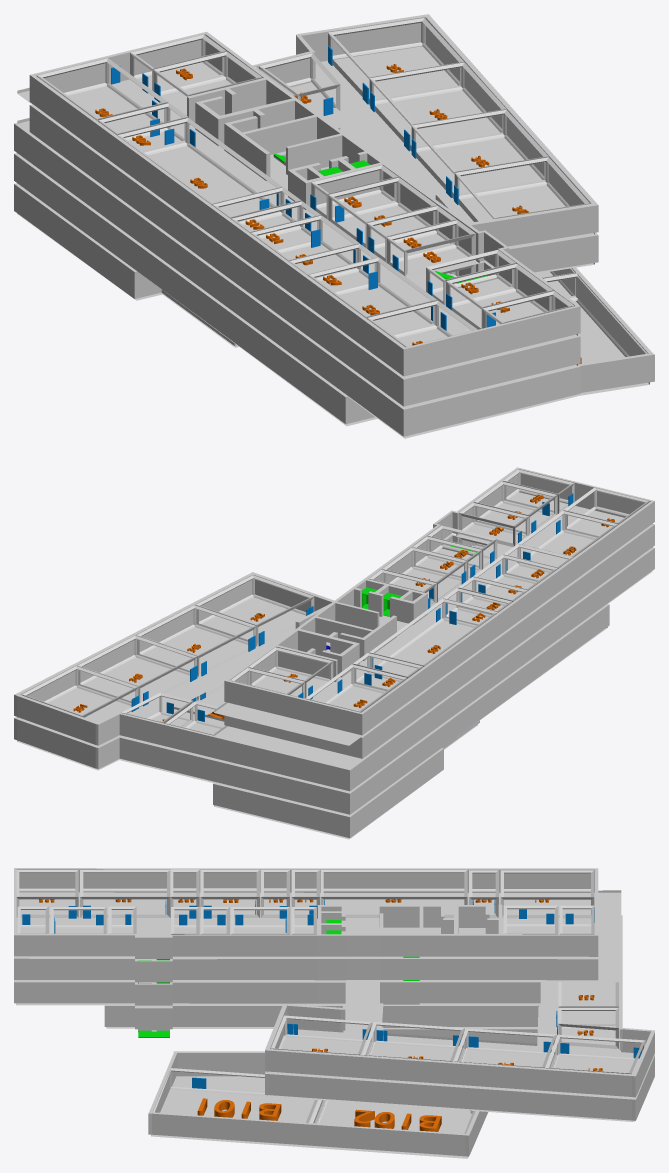
3 renders of one model, top to bottom at view 1: azimuth 30°, elevation 25°; view 2: azimuth 150°, elevation 25°; view 3: azimuth 270°, elevation 25°, orthographic. The views are drawn at different scales.
Parts seen in each view (by area): view 1: Wall.005, Wall.003, Floor.005, Floor.003, Wall.004, Wall.002, Wall.001, Wall, B102.034, B102.035, B102.036, B102.053 (+23 smaller); view 2: Wall.005, Wall.003, Floor.005, Wall.002, Floor.003, Wall.004, Wall.001, Floor.004, B102.034, B102.037, B102.035, Floor.002 (+19 smaller); view 3: Wall.005, Wall.003, Floor.005, Wall.002, Floor.003, Wall.004, Wall, Floor, B102.053, Floor.004, B102.056, B102.062 (+22 smaller).
Part boxes in pixels (x1,y1,x2,y2): Wall.005: (29,31,580,376); Wall.003: (14,14,598,436); Floor.005: (17,62,577,378); Floor.003: (17,46,594,438); Wall.004: (29,104,580,406); Wall.002: (14,153,598,424); Wall.001: (14,183,236,345); Wall: (553,267,654,392); B102.034: (411,109,548,198); B102.035: (369,62,506,151); B102.036: (328,18,464,104); B102.053: (117,118,282,221); Wall.005: (224,467,654,735); Wall.003: (14,547,654,791); Floor.005: (214,491,652,745); Wall.002: (14,604,609,814); Floor.003: (17,571,652,792); Wall.004: (224,524,654,758); Wall.001: (213,720,479,837); Floor.004: (214,544,652,769); B102.034: (136,605,256,677); B102.037: (195,575,314,646); B102.035: (77,635,197,707); Floor.002: (17,627,607,815); Wall.005: (14,868,598,958); Wall.003: (14,915,654,1097); Floor.005: (16,890,621,958); Wall.002: (104,1004,654,1120); Floor.003: (16,980,637,1098); Wall.004: (14,956,598,982); Wall: (148,1051,488,1156); Floor: (151,1074,472,1158); B102.053: (320,870,467,917); Floor.004: (16,956,621,982); B102.056: (80,870,170,917); B102.062: (500,870,594,918).
Bounding box in the file's own units: 2.3 × 0.9403 × 3.87.
